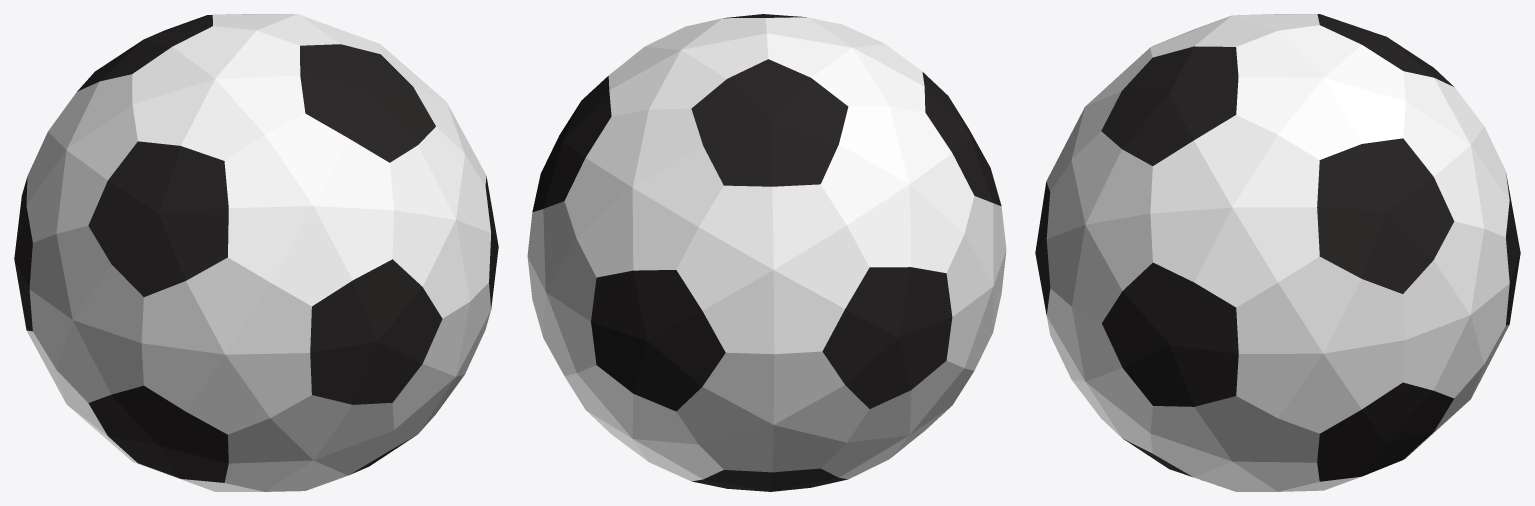
File: soccer_ball.glb
3 views of the same model, side by side, from view 1: azimuth 30°, elevation 25°; view 2: azimuth 150°, elevation 25°; view 3: azimuth 270°, elevation 25° (orthographic).
Parts seen in each view (by area): view 1: Football Ball.001; view 2: Football Ball.001; view 3: Football Ball.001.
Boxes of the visible parts, bbox=[...] form: Football Ball.001: bbox=[14, 14, 498, 491]; Football Ball.001: bbox=[527, 14, 1006, 491]; Football Ball.001: bbox=[1035, 14, 1520, 491].
Bounding box in the file's own units: 0.2135 × 0.2188 × 0.2165.
1 material, 1 textured.
